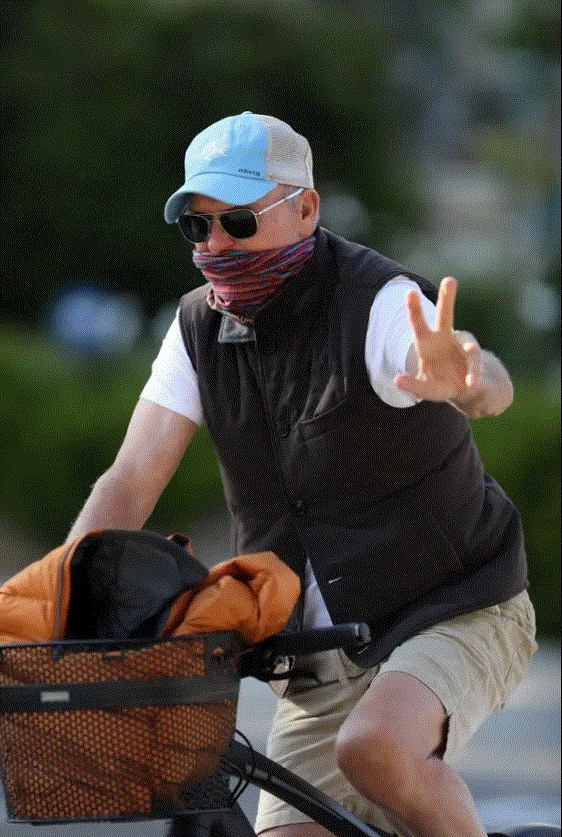mask_weared_incorrect: (175, 209, 311, 287)
